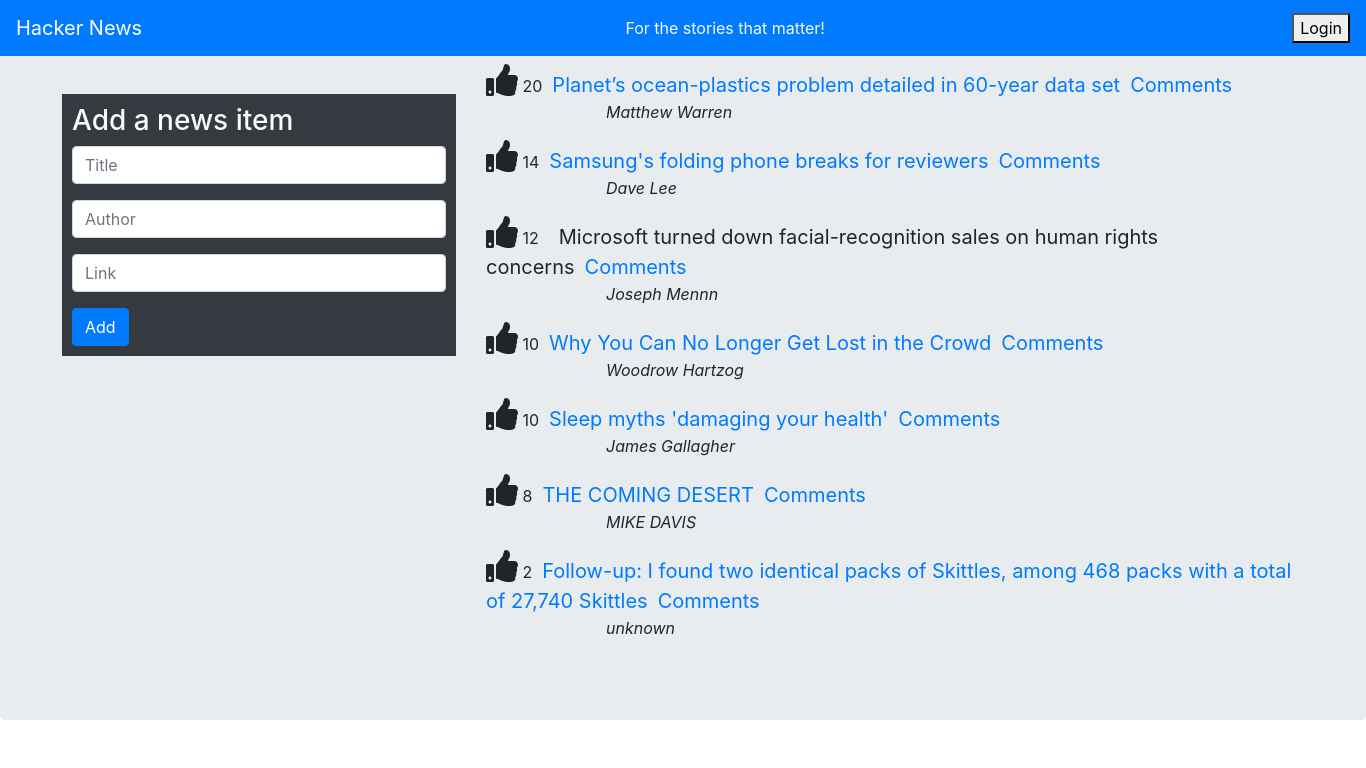
Upvoting › increments the upvote count
Expected: the text "20" is shown, left=486, top=76, right=542, bottom=96
Click the picture next to "20" at (502,80), box left=486, top=64, right=518, bottom=96
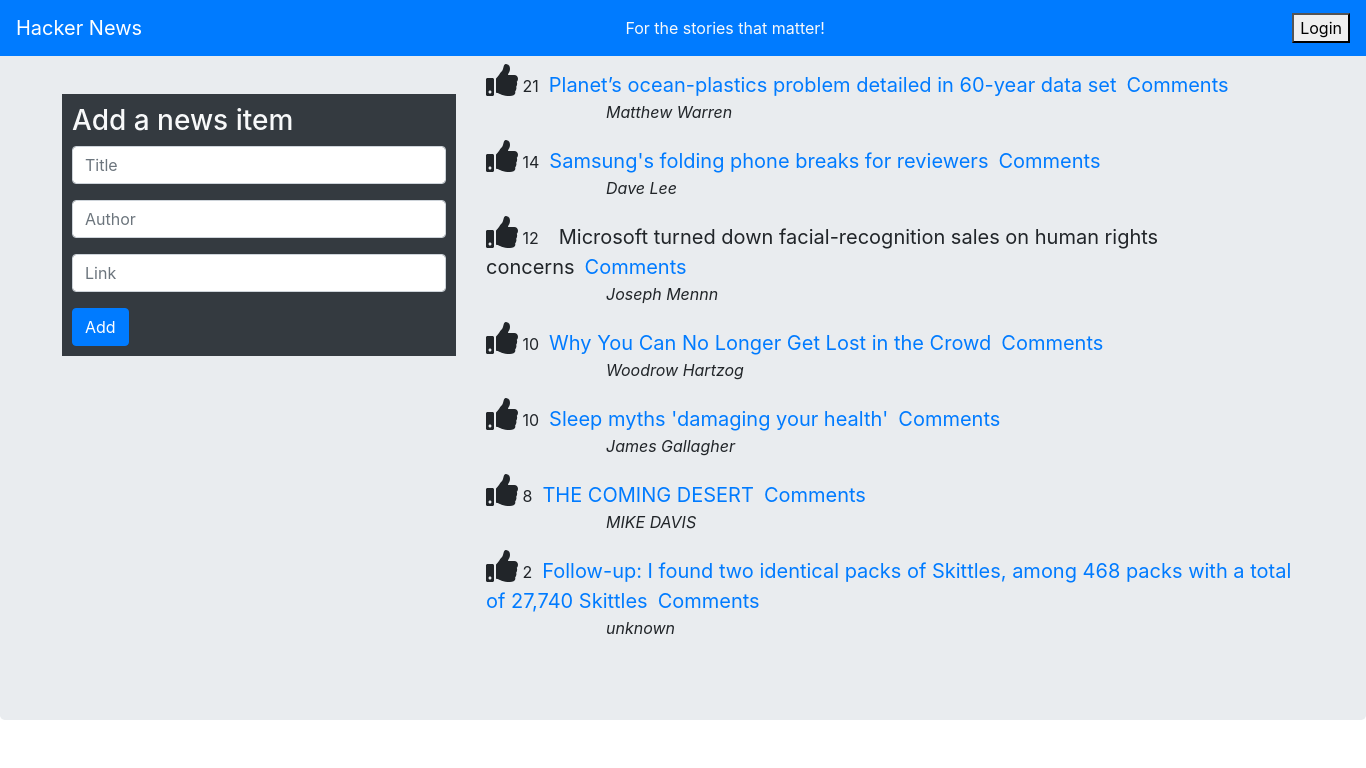
Expected: the text "21" is shown, left=486, top=76, right=539, bottom=96
Click the picture next to "21" at (502,80), box left=486, top=64, right=518, bottom=96
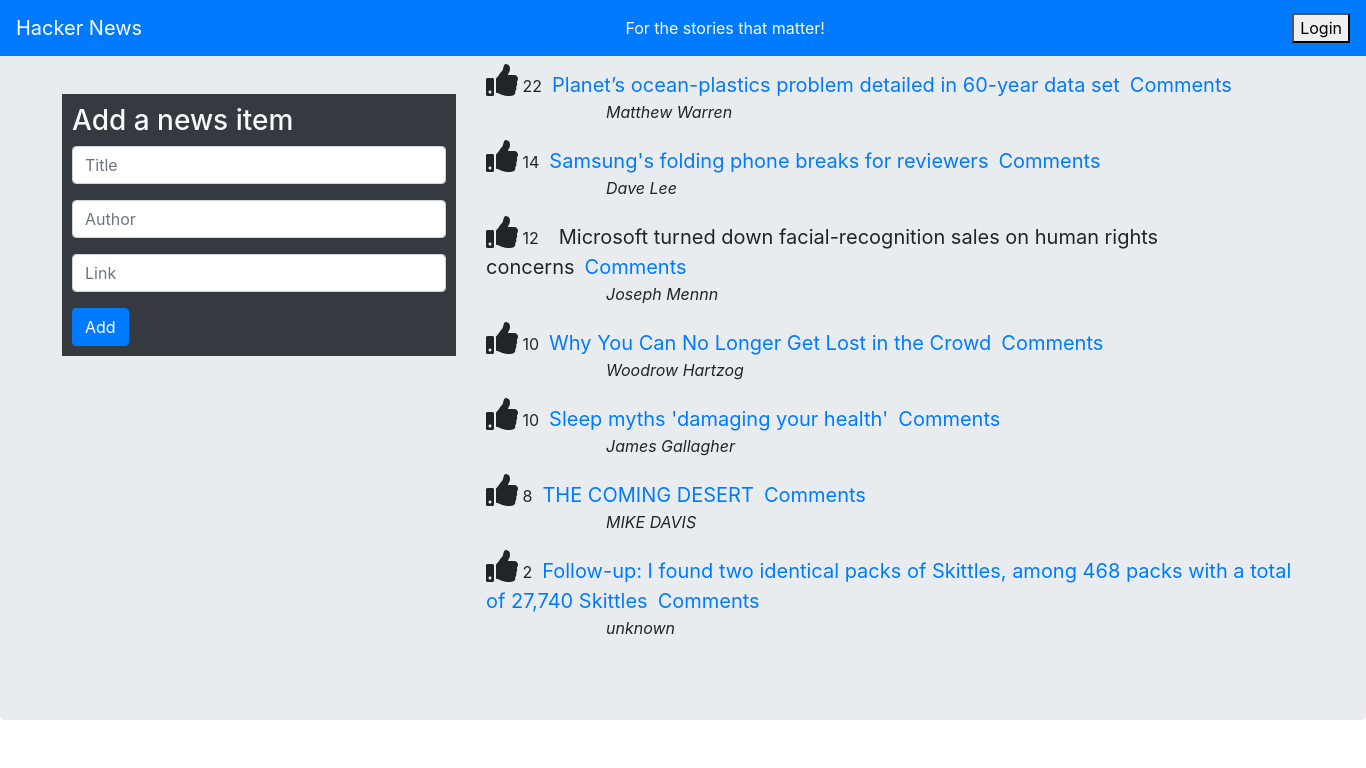
Expected: the text "22" is shown, left=486, top=76, right=542, bottom=96
